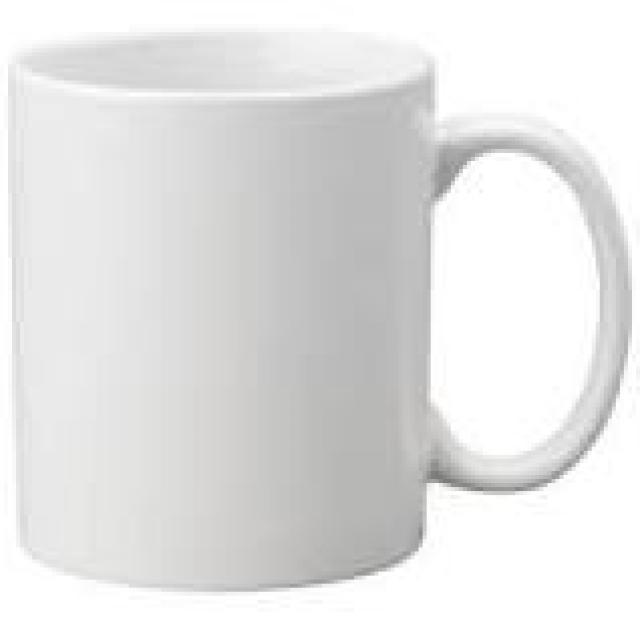taza: (11, 28, 630, 591)
